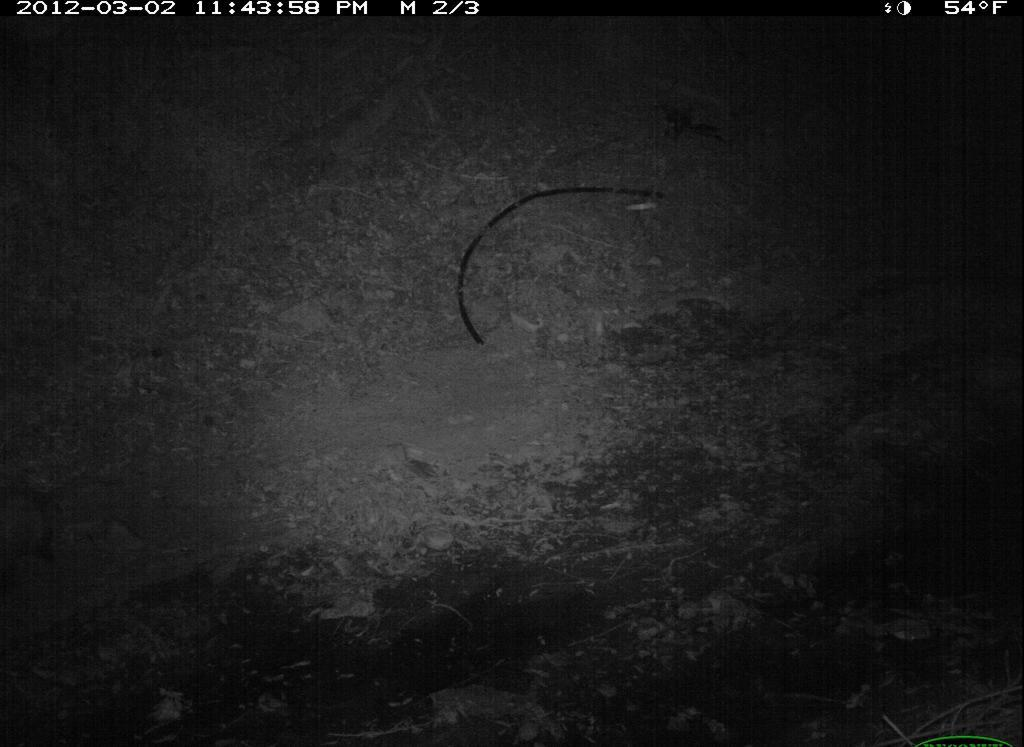opossum: (1, 455, 141, 601)
